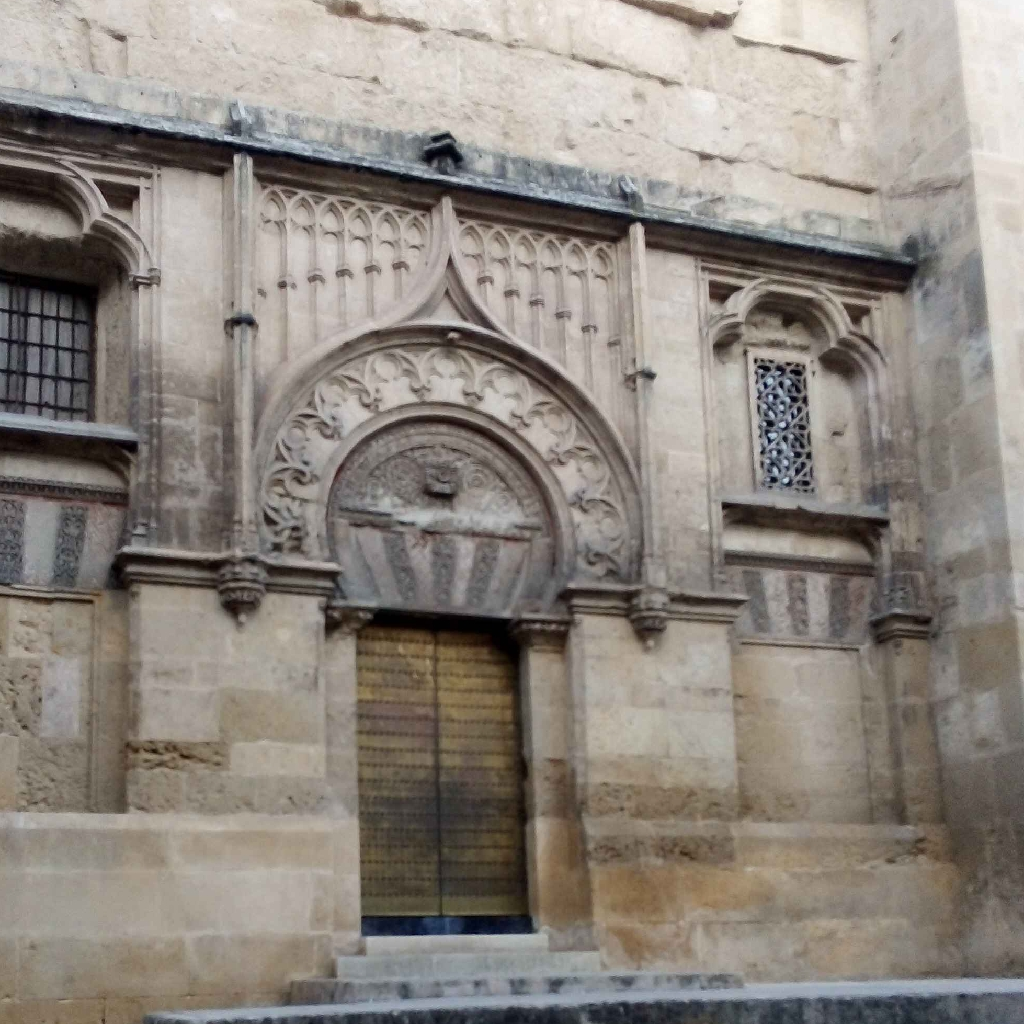arco-conopial: (271, 249, 606, 387)
arco-herradura: (296, 386, 600, 629)
arco-trilobulado: (698, 274, 892, 389)
dintel-adovelado: (324, 513, 555, 626), (731, 559, 881, 648)
